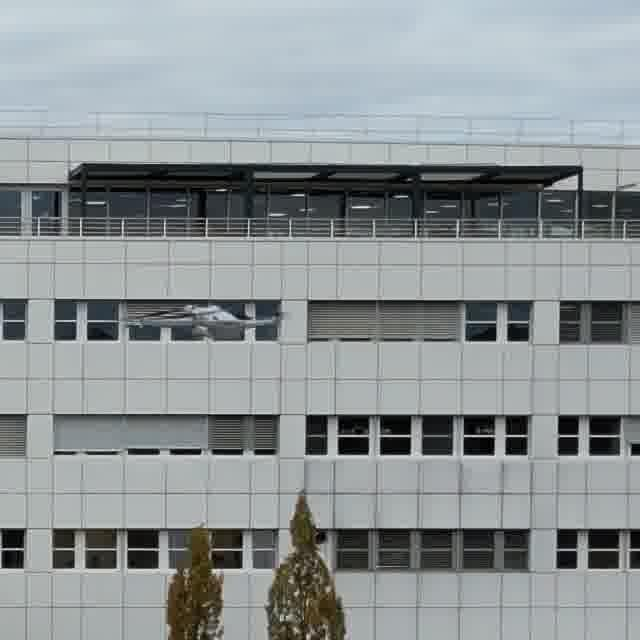Drohne: (123, 304, 282, 338)
